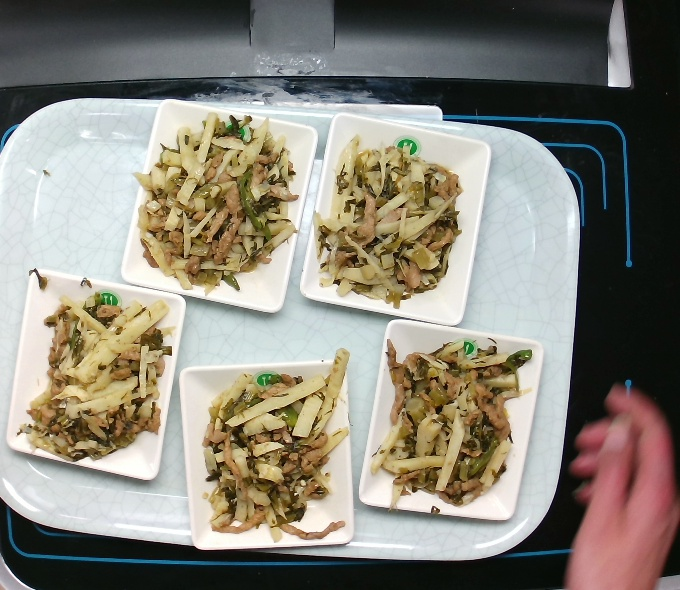wcq-RouSiDongSun: (125, 101, 298, 293), (197, 345, 363, 545), (12, 280, 178, 467), (371, 331, 541, 513), (314, 136, 471, 312)
